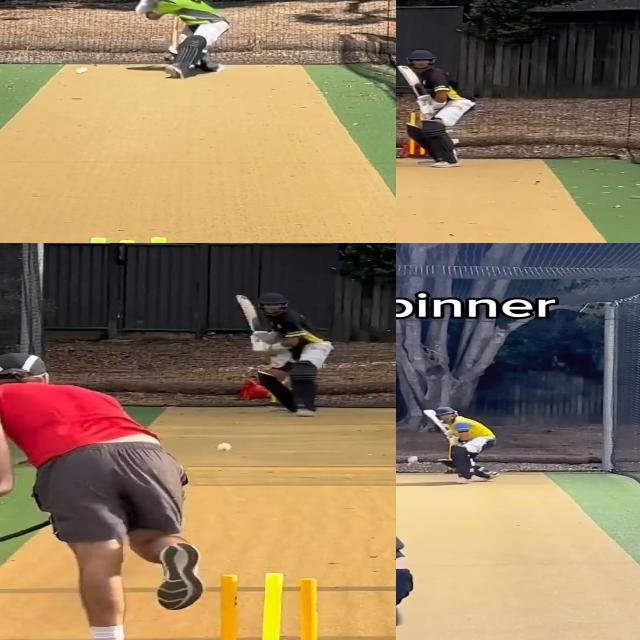Cricket ball: (215, 441, 234, 453), (74, 67, 89, 75), (407, 456, 419, 464)
Stumps: (201, 574, 333, 640)
